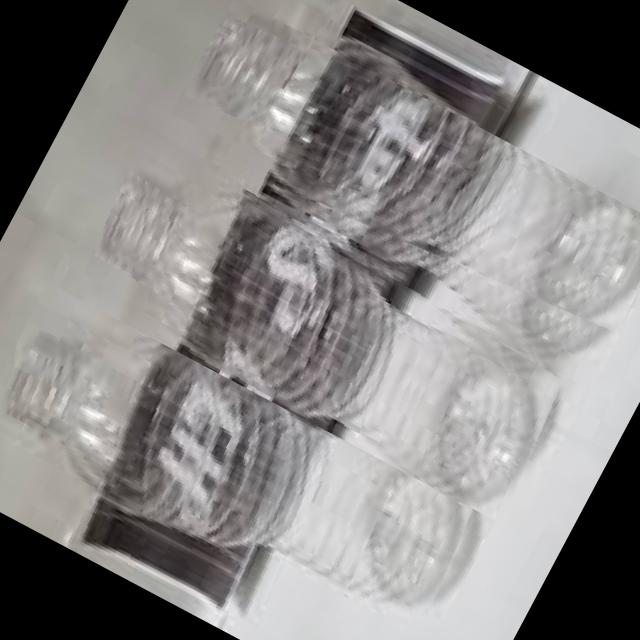plastic bottle: (59, 126, 588, 524), (0, 251, 506, 640), (154, 0, 640, 368)
